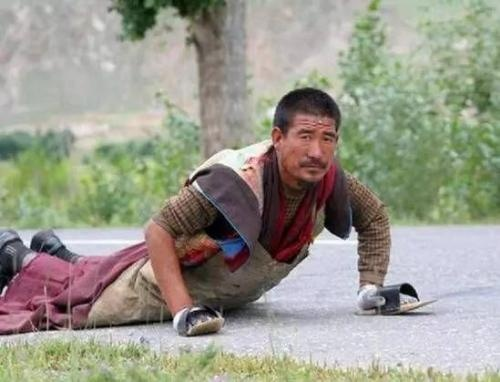falling: (16, 74, 422, 340)
